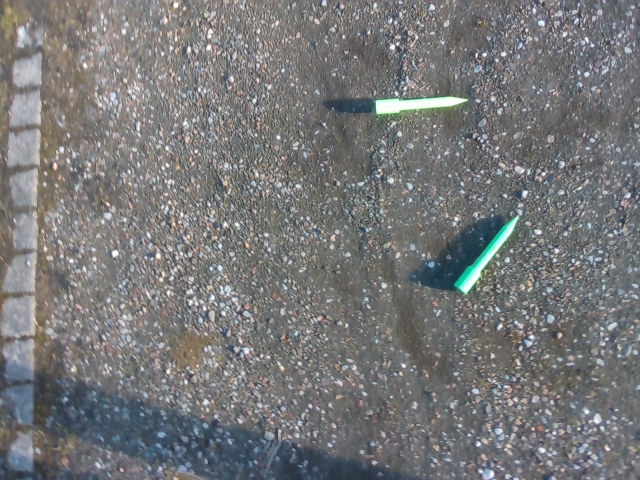Probe: (450, 210, 524, 302), (369, 93, 471, 117)
